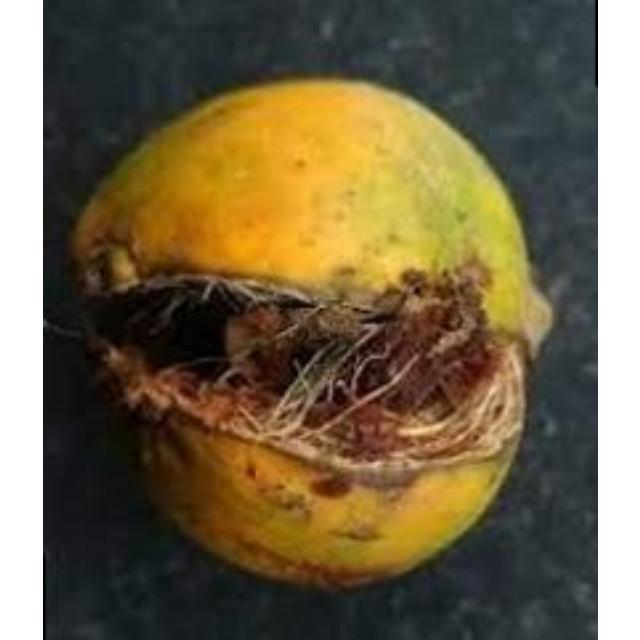damaged: (66, 77, 555, 595)
